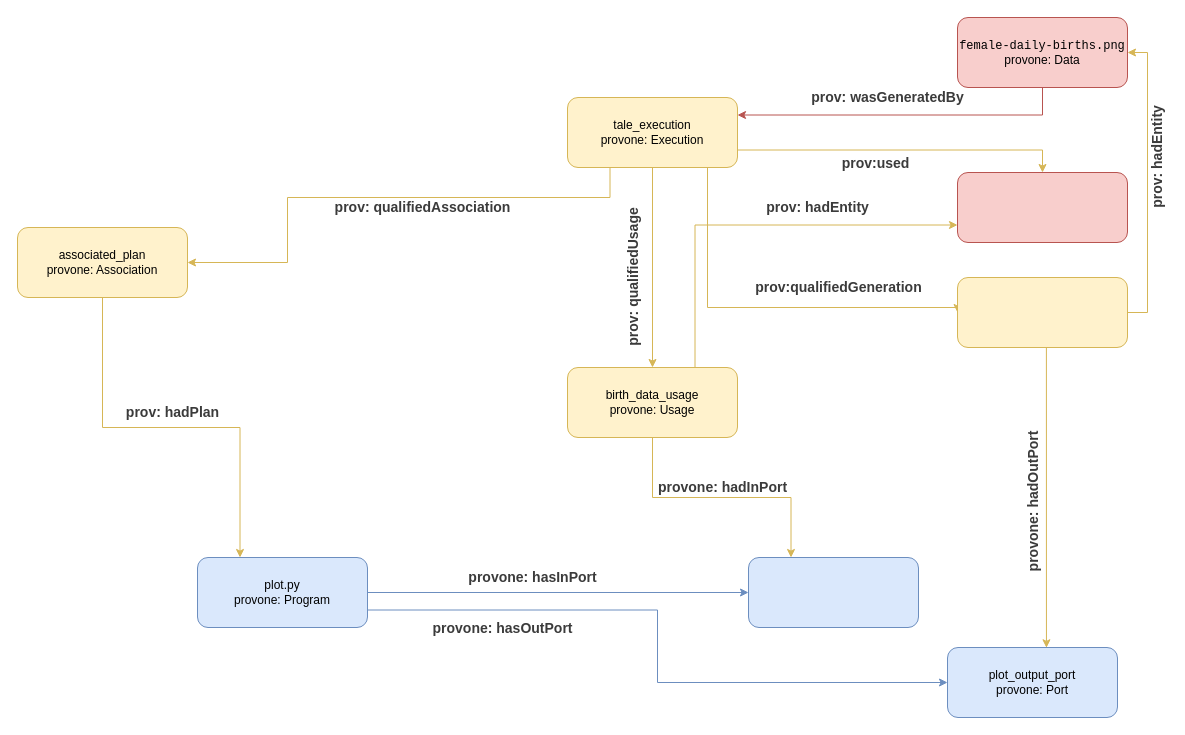
The diagram is 1185 pixels wide and 735 high, and some of its shapes have lost their labels. The box of each missing label's shape, as (x1, y1, x2, y2) in pixels:
birth_data_port provone: Port: (748, 556, 918, 628)
birth_plot_generation provone: Generation: (956, 276, 1128, 348)
daily-total-female-births-CA.csv provone: Data: (956, 172, 1128, 242)
